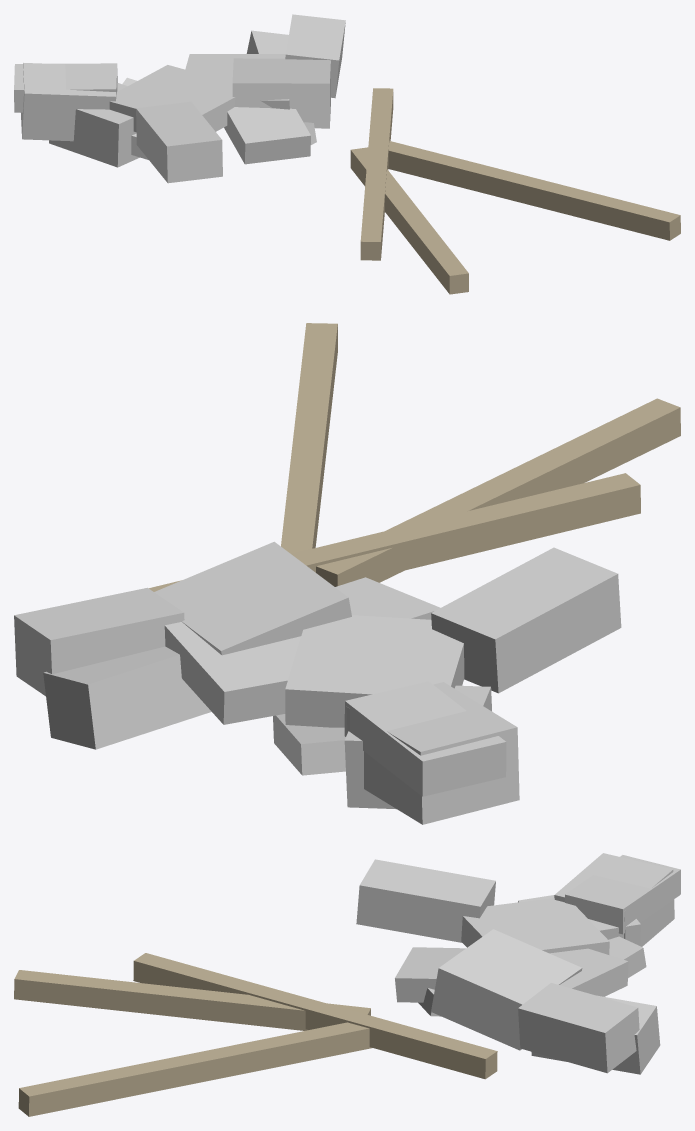
File: AE_C02_CollapsePile.fbx
3 views of the same model, one above another, from view 1: azimuth 30°, elevation 25°; view 2: azimuth 150°, elevation 25°; view 3: azimuth 270°, elevation 25° (orthographic). The views are drawn at different scales.
Visible parts, largest first — view 1: AE_C02_CollapsePile_LOD0; view 2: AE_C02_CollapsePile_LOD0; view 3: AE_C02_CollapsePile_LOD0.
Part boxes in pixels (x1,y1,x2,y2): AE_C02_CollapsePile_LOD0: (14, 14, 680, 294); AE_C02_CollapsePile_LOD0: (14, 323, 680, 824); AE_C02_CollapsePile_LOD0: (14, 853, 680, 1116).
Size of what is drawn, in the model's own units: 158 by 29.09 by 208.
